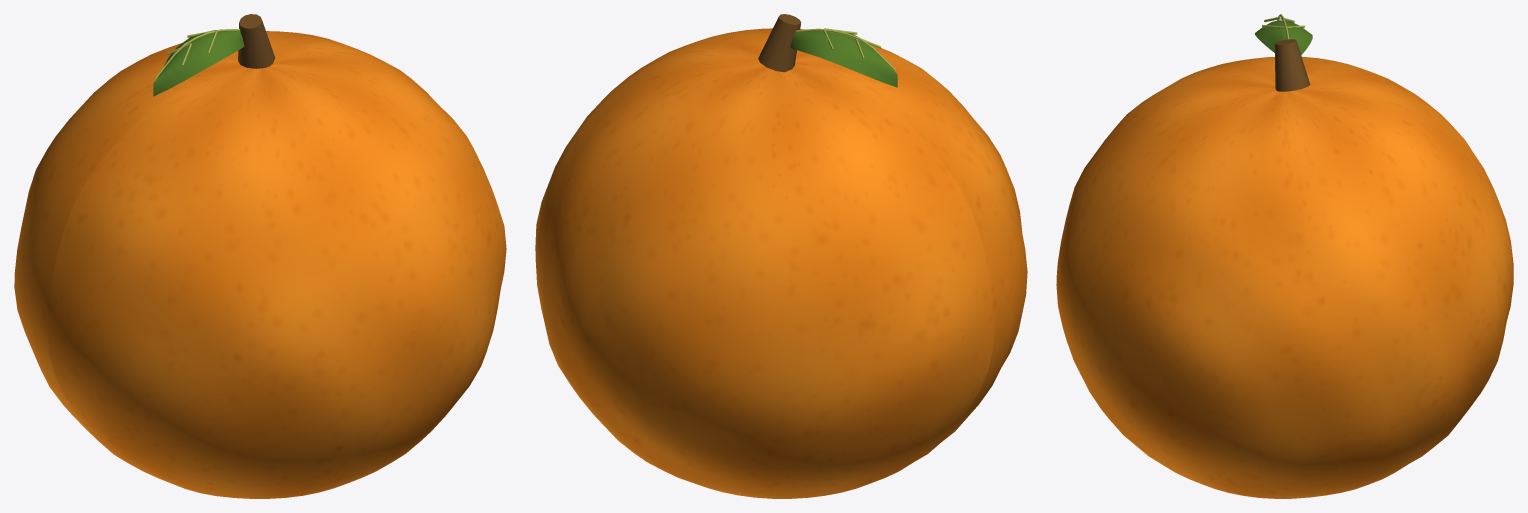
File: orange.glb
3 renders of one model, left to right at view 1: azimuth 30°, elevation 25°; view 2: azimuth 150°, elevation 25°; view 3: azimuth 270°, elevation 25°, orthographic. The views are drawn at different scales.
Parts seen in each view (by area): view 1: Fresh orange with folded leaf; view 2: Fresh orange with folded leaf; view 3: Fresh orange with folded leaf.
Boxes of the visible parts, box(x1,y1,x2,y2) form: Fresh orange with folded leaf: box(14, 14, 506, 498); Fresh orange with folded leaf: box(535, 14, 1027, 498); Fresh orange with folded leaf: box(1056, 14, 1513, 498).
Size of the model in its own units: 0.8896 by 0.911 by 0.8767.
4 materials, 1 textured.
